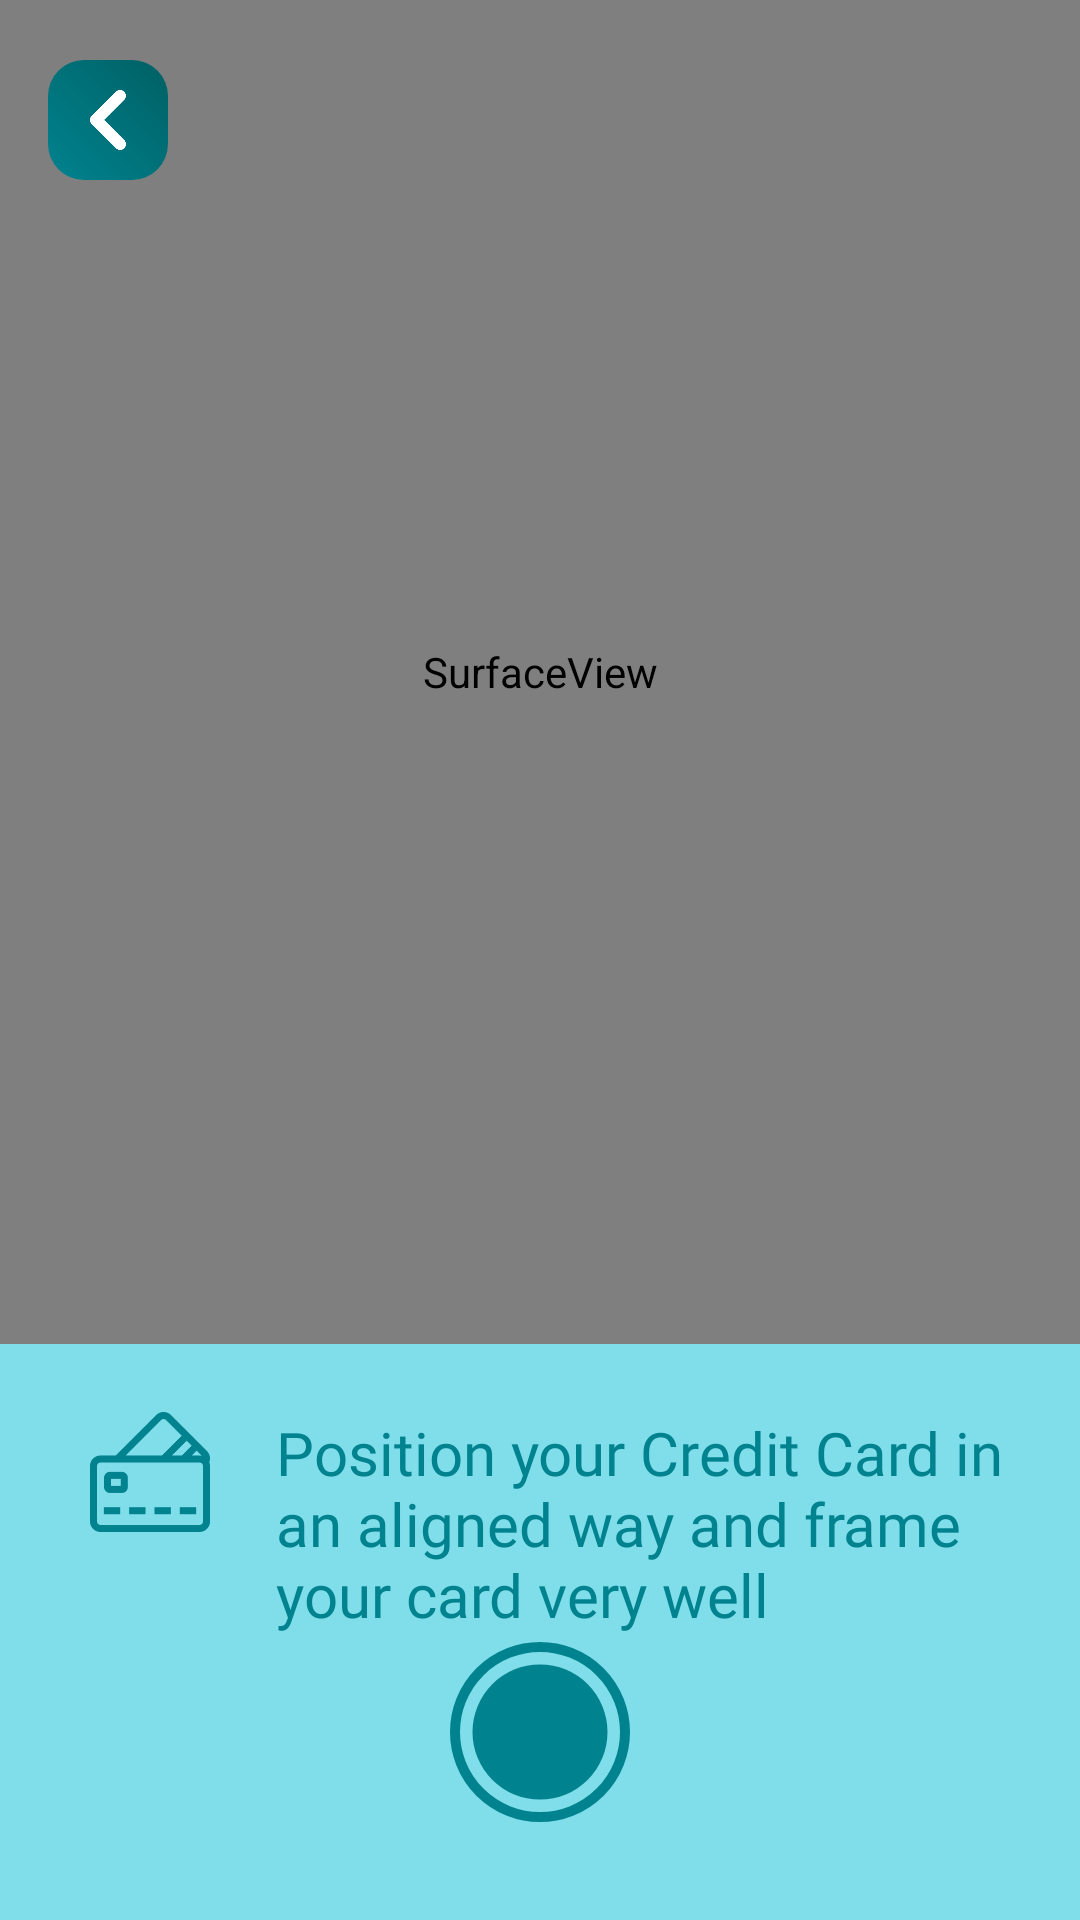

Icons on this 1080 x 1920 Android screen, each with its box as (x1, y1, x2, y2):
back: (90, 90, 126, 150)
capture: (450, 1642, 630, 1822)
